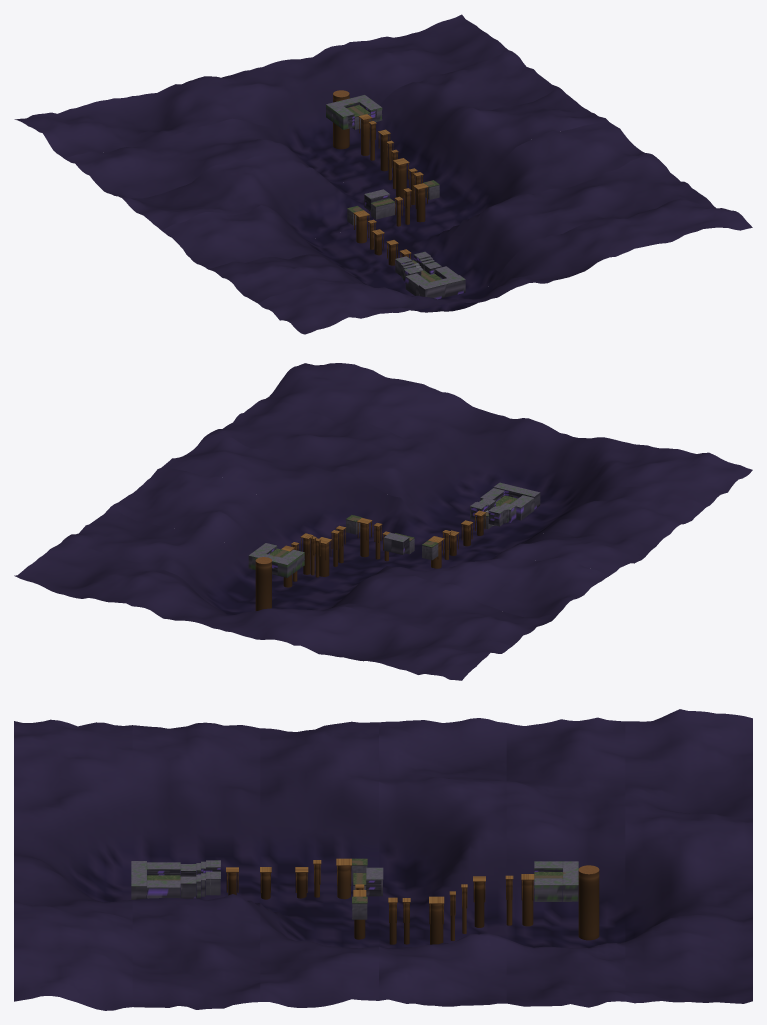
File: witchwood_bridges_terrain.glb
3 views of the same model, one above another, from view 1: azimuth 30°, elevation 25°; view 2: azimuth 150°, elevation 25°; view 3: azimuth 270°, elevation 25° (orthographic). The views are drawn at different scales.
Parts seen in each view (by area): view 1: backdrop_5, backdrop_3, backdrop_4, backdrop_2, backdrop_1, backdrop_0, terrain_J, terrain_A, terrain_G, terrain_B, terrain_E, terrain_F (+3 smaller); view 2: backdrop_0, backdrop_1, backdrop_5, backdrop_3, backdrop_2, backdrop_4, terrain_J, terrain_G, terrain_A, terrain_B, terrain_E, terrain_F (+1 smaller); view 3: backdrop_5, backdrop_3, backdrop_0, backdrop_1, backdrop_2, backdrop_4, terrain_J, terrain_A, terrain_G, terrain_B, terrain_H, terrain_I (+3 smaller).
Part boxes in pixels (x1=…): backdrop_5: x1=14, y1=14, x2=511, y2=158; backdrop_3: x1=112, y1=87, x2=608, y2=238; backdrop_4: x1=64, y1=51, x2=558, y2=198; backdrop_2: x1=161, y1=122, x2=655, y2=273; backdrop_1: x1=208, y1=156, x2=705, y2=303; backdrop_0: x1=258, y1=198, x2=752, y2=334; terrain_J: x1=326, y1=90, x2=382, y2=149; terrain_A: x1=405, y1=266, x2=465, y2=299; terrain_G: x1=393, y1=158, x2=439, y2=208; terrain_B: x1=395, y1=249, x2=441, y2=283; terrain_E: x1=347, y1=189, x2=395, y2=225; terrain_F: x1=394, y1=183, x2=428, y2=226; backdrop_0: x1=258, y1=363, x2=752, y2=512; backdrop_1: x1=208, y1=401, x2=705, y2=551; backdrop_5: x1=14, y1=539, x2=511, y2=680; backdrop_3: x1=111, y1=467, x2=608, y2=617; backdrop_2: x1=162, y1=434, x2=655, y2=575; backdrop_4: x1=65, y1=507, x2=558, y2=646; terrain_J: x1=248, y1=543, x2=304, y2=610; terrain_G: x1=319, y1=515, x2=361, y2=576; terrain_A: x1=480, y1=482, x2=540, y2=520; terrain_B: x1=470, y1=498, x2=516, y2=535; terrain_E: x1=383, y1=532, x2=438, y2=560; terrain_F: x1=357, y1=518, x2=389, y2=561; backdrop_5: x1=625, y1=709, x2=752, y2=1003; backdrop_3: x1=379, y1=718, x2=506, y2=1006; backdrop_0: x1=14, y1=719, x2=132, y2=1010; backdrop_1: x1=132, y1=722, x2=260, y2=1009; backdrop_2: x1=260, y1=721, x2=378, y2=1007; backdrop_4: x1=506, y1=717, x2=625, y2=1007; terrain_J: x1=534, y1=861, x2=599, y2=940; terrain_A: x1=131, y1=861, x2=180, y2=899; terrain_G: x1=352, y1=896, x2=444, y2=944; terrain_B: x1=180, y1=860, x2=238, y2=898; terrain_H: x1=449, y1=876, x2=485, y2=940; terrain_I: x1=505, y1=874, x2=534, y2=926.
Size of the model in its own units: 504 by 79.7 by 567.
